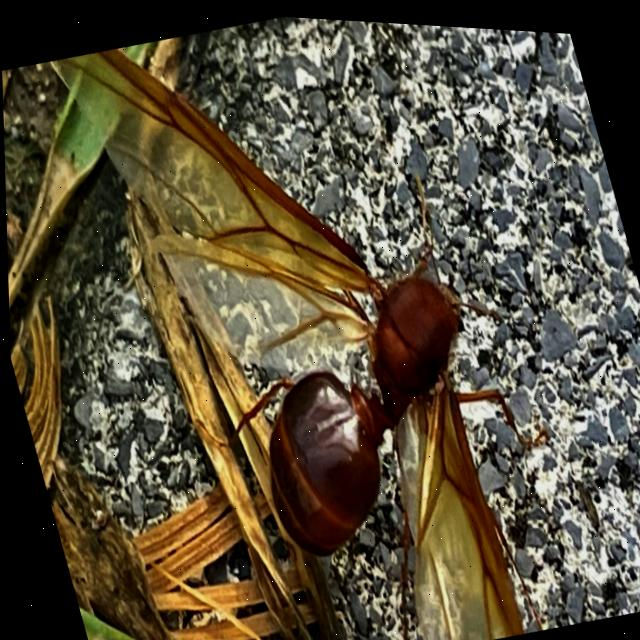Alive-Male-Alate: (43, 2, 598, 640)
